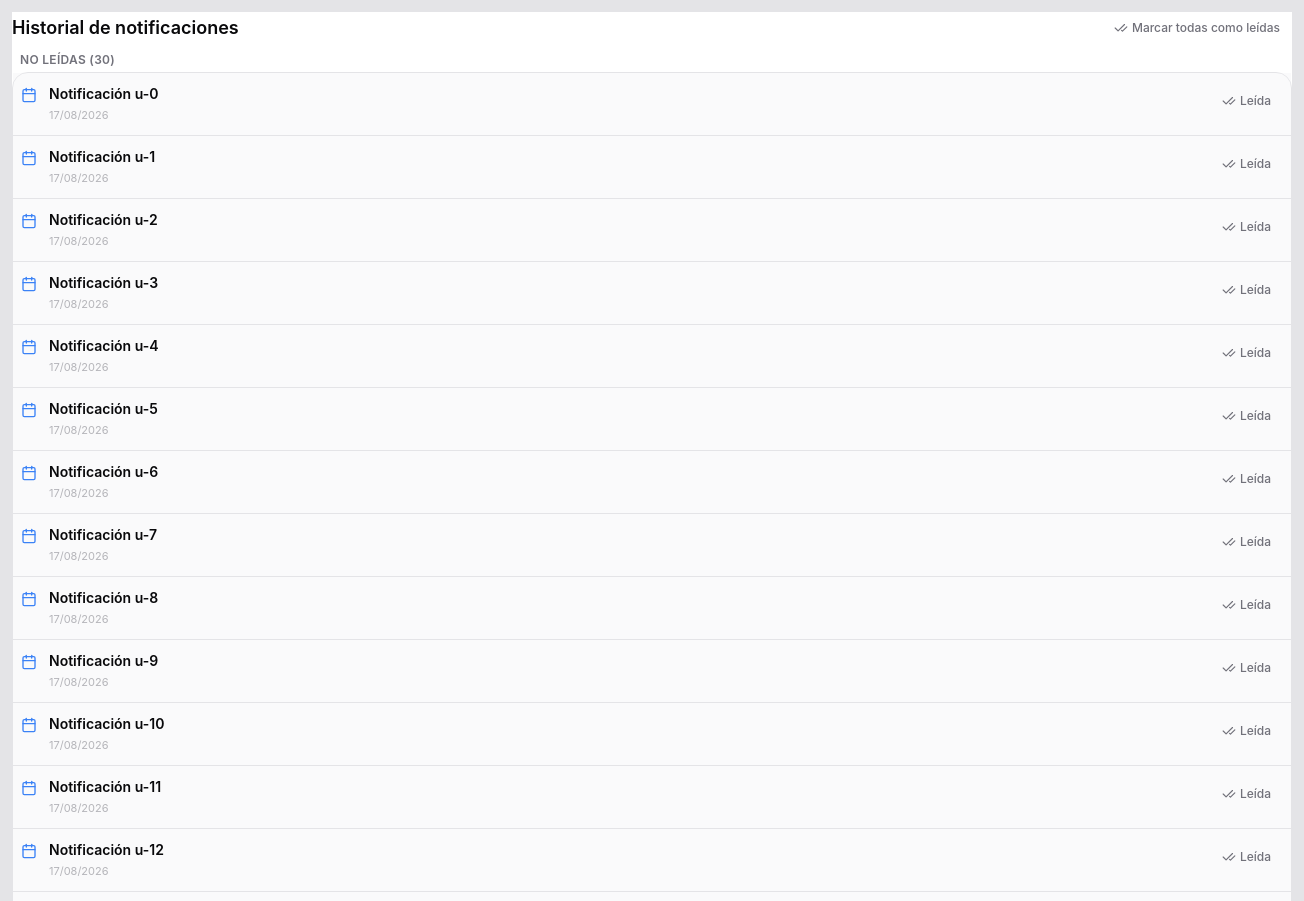
NotificationsList › marks all notifications as read optimistically
Click the button "Marcar todas como leídas": (1197, 28) [1102,12,1292,44]
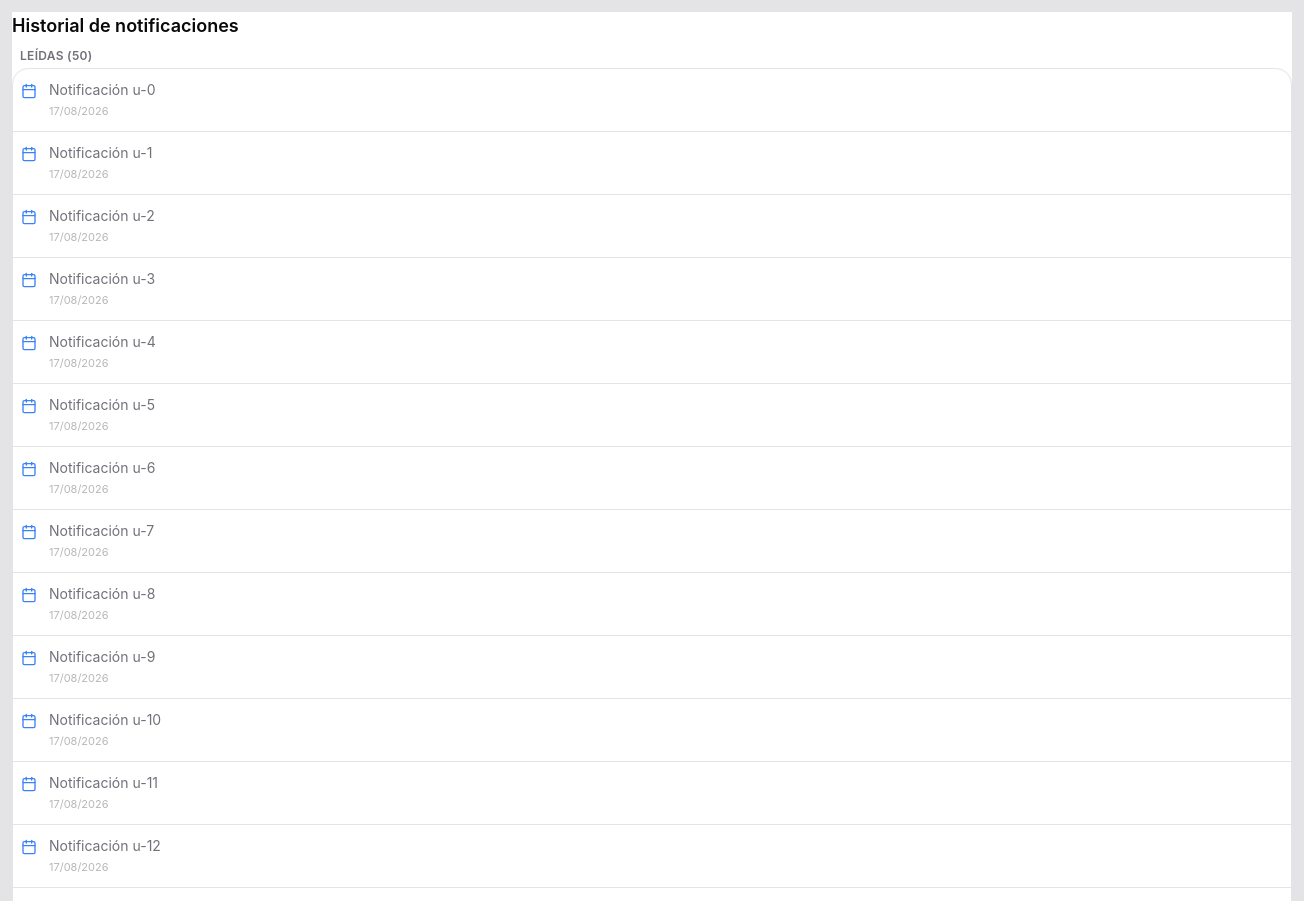
Check: the heading "No leídas" is gone
Check: the heading "Leídas (50)" is shown, box [20,48,92,63]
